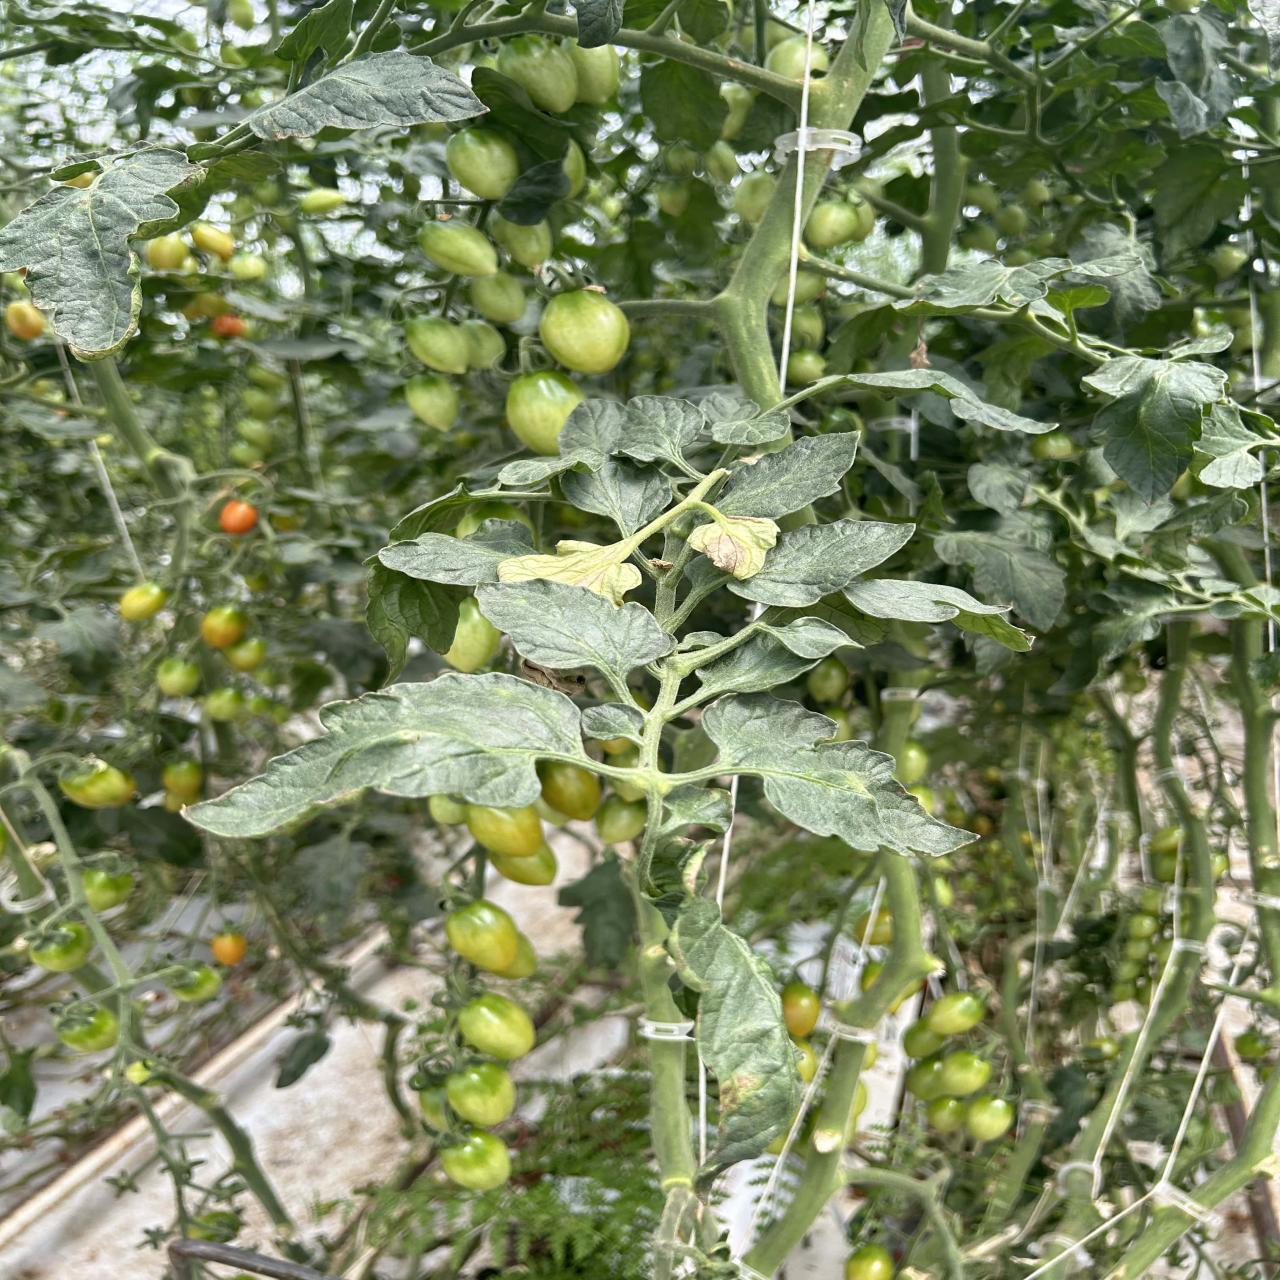Rugose leaf: (190, 673, 598, 838), (702, 693, 968, 855), (0, 149, 202, 360), (670, 897, 799, 1165), (248, 49, 488, 141), (477, 580, 676, 688), (1087, 359, 1225, 502), (729, 519, 914, 607), (806, 369, 1056, 434), (897, 254, 1135, 314), (839, 579, 1033, 652), (934, 532, 1065, 632), (366, 556, 469, 681), (715, 431, 858, 519), (379, 520, 536, 586), (498, 536, 641, 605), (559, 457, 674, 536), (1191, 403, 1274, 489), (696, 634, 812, 693), (611, 396, 704, 465), (687, 389, 789, 448), (688, 516, 779, 579), (275, 0, 354, 69), (390, 482, 476, 543), (558, 397, 627, 471), (658, 785, 730, 839), (770, 617, 858, 660), (580, 703, 644, 744), (571, 0, 624, 48), (1046, 286, 1109, 313)
Rugose tomato: (539, 286, 629, 374), (506, 372, 585, 455), (497, 36, 578, 114), (447, 900, 522, 973), (457, 993, 536, 1061), (447, 129, 519, 200), (444, 1063, 516, 1128), (444, 595, 502, 673), (418, 223, 498, 277), (441, 1132, 511, 1191), (465, 805, 544, 857), (538, 761, 600, 821), (406, 319, 470, 373), (491, 218, 552, 270), (490, 839, 557, 885), (767, 34, 829, 82), (404, 376, 458, 431), (570, 45, 619, 104), (470, 272, 526, 324), (924, 993, 985, 1036), (804, 202, 858, 250), (964, 1096, 1015, 1143), (597, 798, 647, 845), (733, 170, 776, 224), (781, 981, 821, 1040), (940, 1051, 990, 1097), (459, 321, 505, 369), (491, 932, 537, 979), (903, 1016, 944, 1058), (906, 1057, 946, 1101), (926, 1096, 967, 1133), (795, 270, 828, 306), (771, 279, 787, 305)
